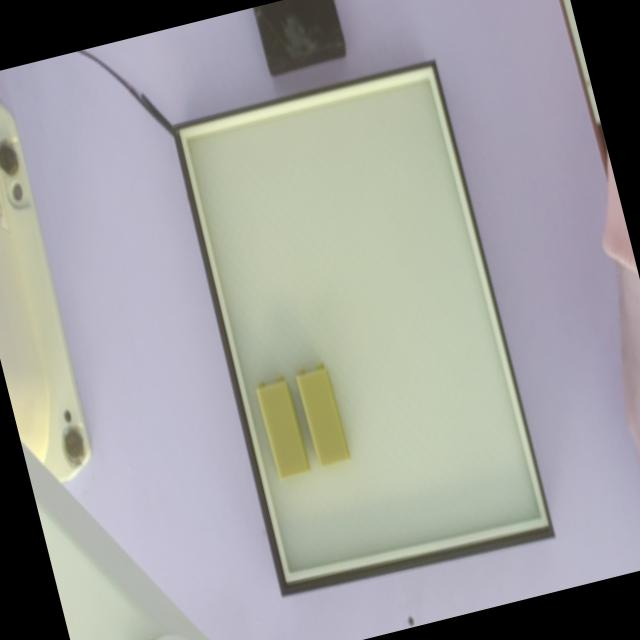bateria: (255, 371, 310, 477), (294, 359, 349, 464)
mesa: (171, 59, 555, 597)
